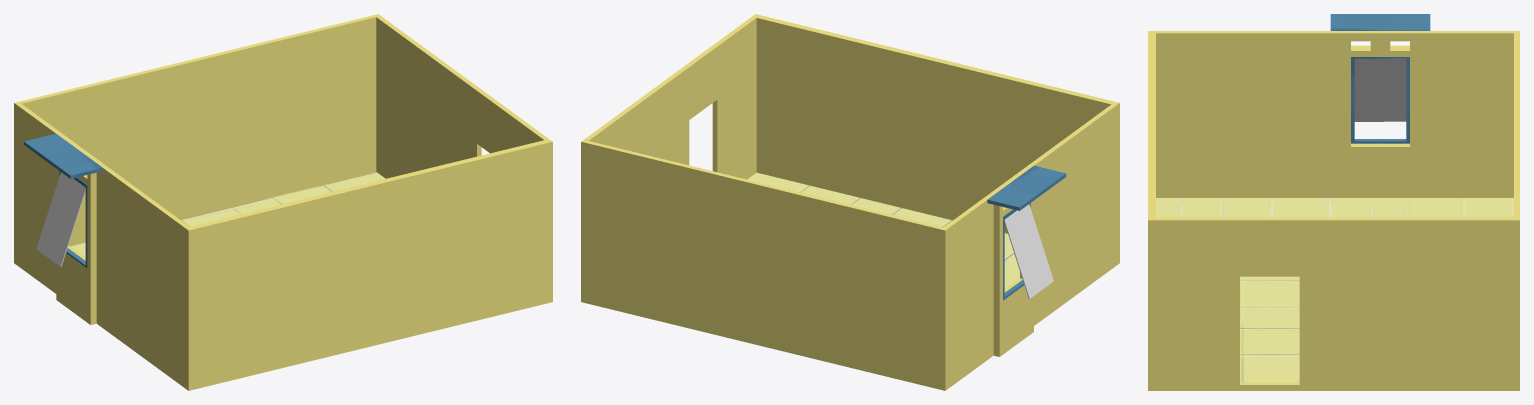
File: kamar mabna 2 1 - Copy.fbx
The picture shows the model from 3 angles, left to right: view 1: azimuth 30°, elevation 25°; view 2: azimuth 150°, elevation 25°; view 3: azimuth 270°, elevation 25°; orthographic projection. The views are drawn at different scales.
Visible parts, largest first — view 1: Dinding Kamar.002, Jendela.001, Cube.001; view 2: Dinding Kamar.002, Jendela.001, Cube.001; view 3: Dinding Kamar.002, Jendela.001, Cube.001, Kotak Jendela.001.
Part boxes in pixels (bbox=[...]): Dinding Kamar.002: bbox=[14, 14, 552, 390]; Jendela.001: bbox=[36, 172, 85, 266]; Cube.001: bbox=[24, 133, 102, 178]; Dinding Kamar.002: bbox=[581, 14, 1119, 390]; Jendela.001: bbox=[1004, 204, 1053, 298]; Cube.001: bbox=[987, 165, 1066, 210]; Dinding Kamar.002: bbox=[1148, 31, 1519, 390]; Jendela.001: bbox=[1354, 58, 1406, 121]; Cube.001: bbox=[1330, 14, 1430, 30]; Kotak Jendela.001: bbox=[1351, 57, 1409, 143].
Bounding box in the file's own units: 2452 × 948 × 1869.
Materials: 4 (3 with a texture image).
